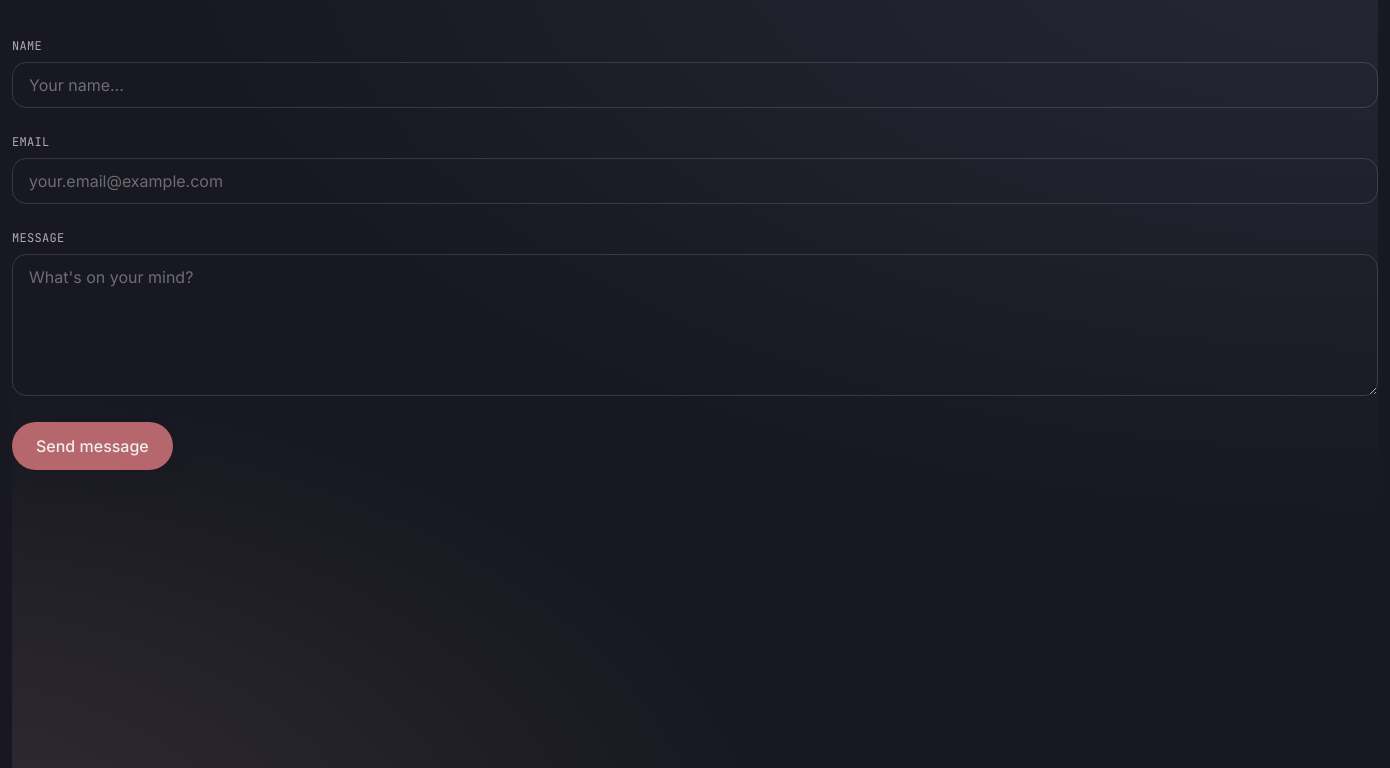
Scenario: ContactForm › flags an invalid email format
The width and height of the screenshot is (1390, 768).
Type "Channie" into the field labelled "Name" at (695, 85), box x1=12 y1=62 x2=1378 y2=108
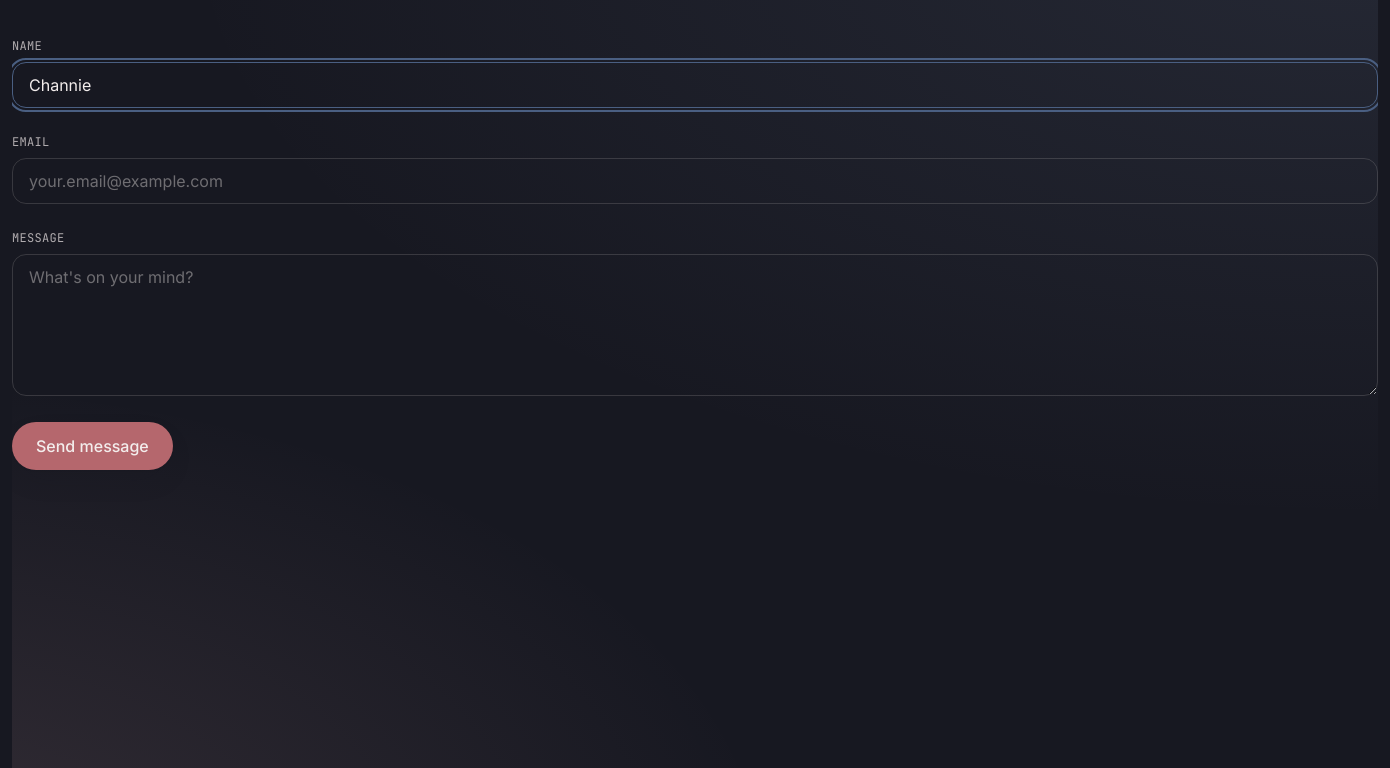
Type "not-an-email" into the field labelled "Email" at (695, 181), box x1=12 y1=158 x2=1378 y2=204
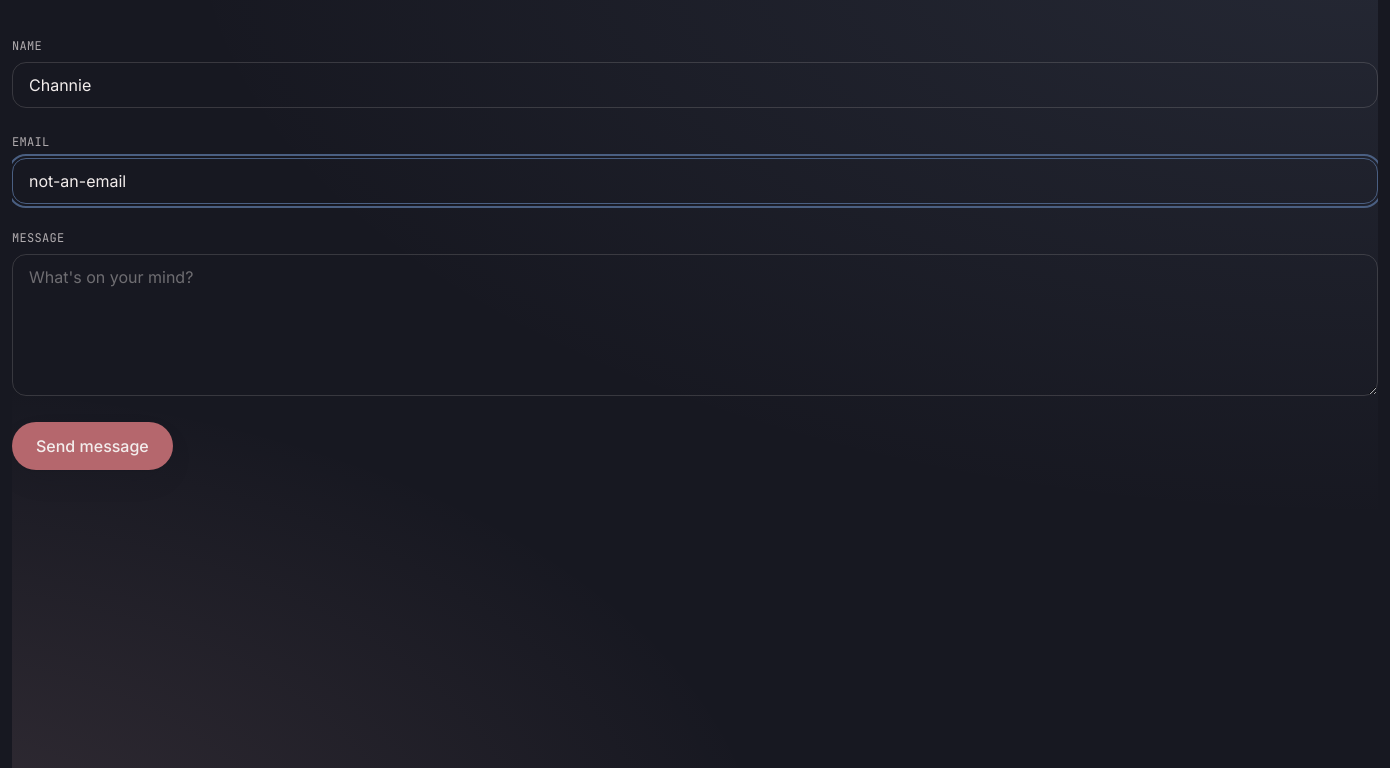
Type "Hi there" into the text box labelled "Message" at (695, 325), box x1=12 y1=254 x2=1378 y2=396
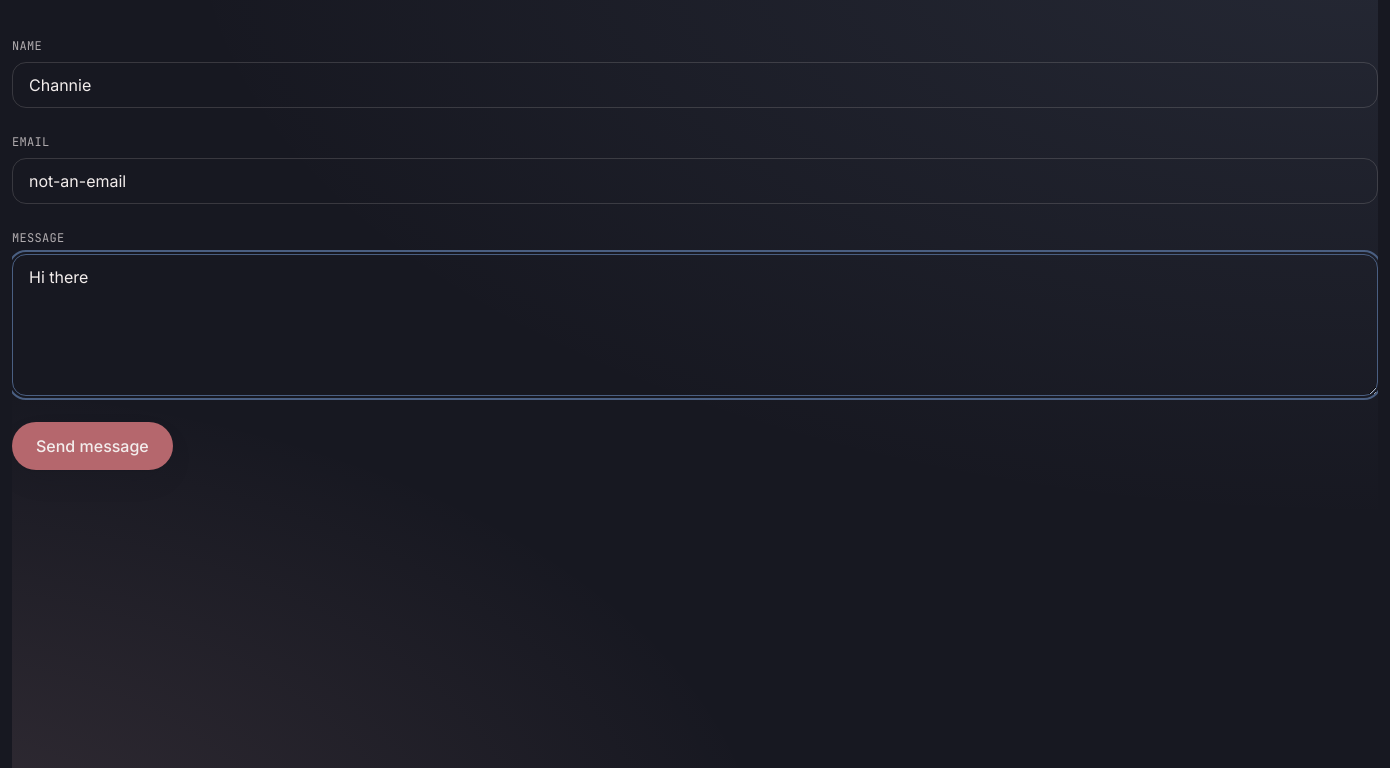
Click the button "Send message" at (92, 446), box x1=12 y1=422 x2=173 y2=470
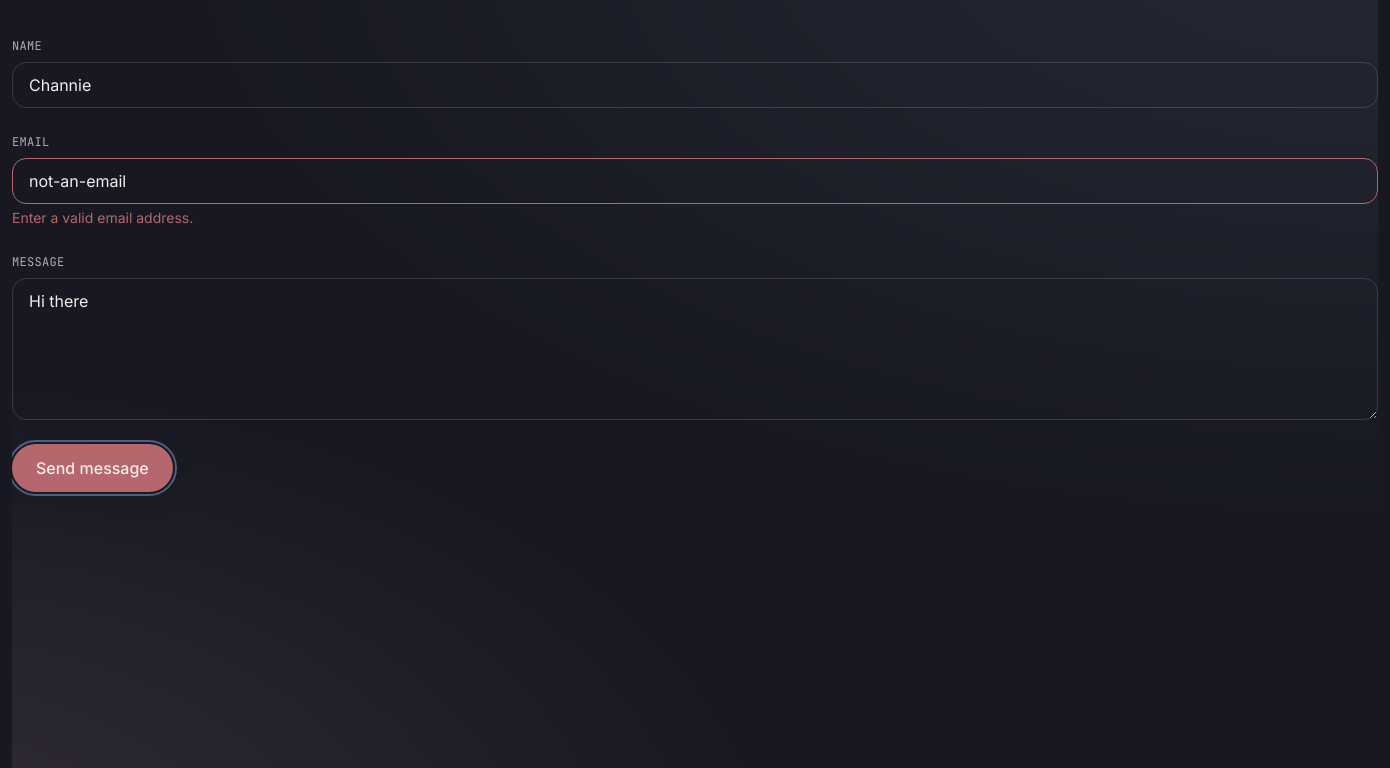
Expected: the text "Enter a valid email address." is shown, x1=12 y1=209 x2=193 y2=226
